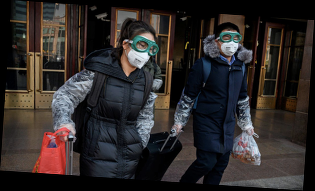with_mask: (127, 38, 158, 71), (218, 32, 241, 57)
